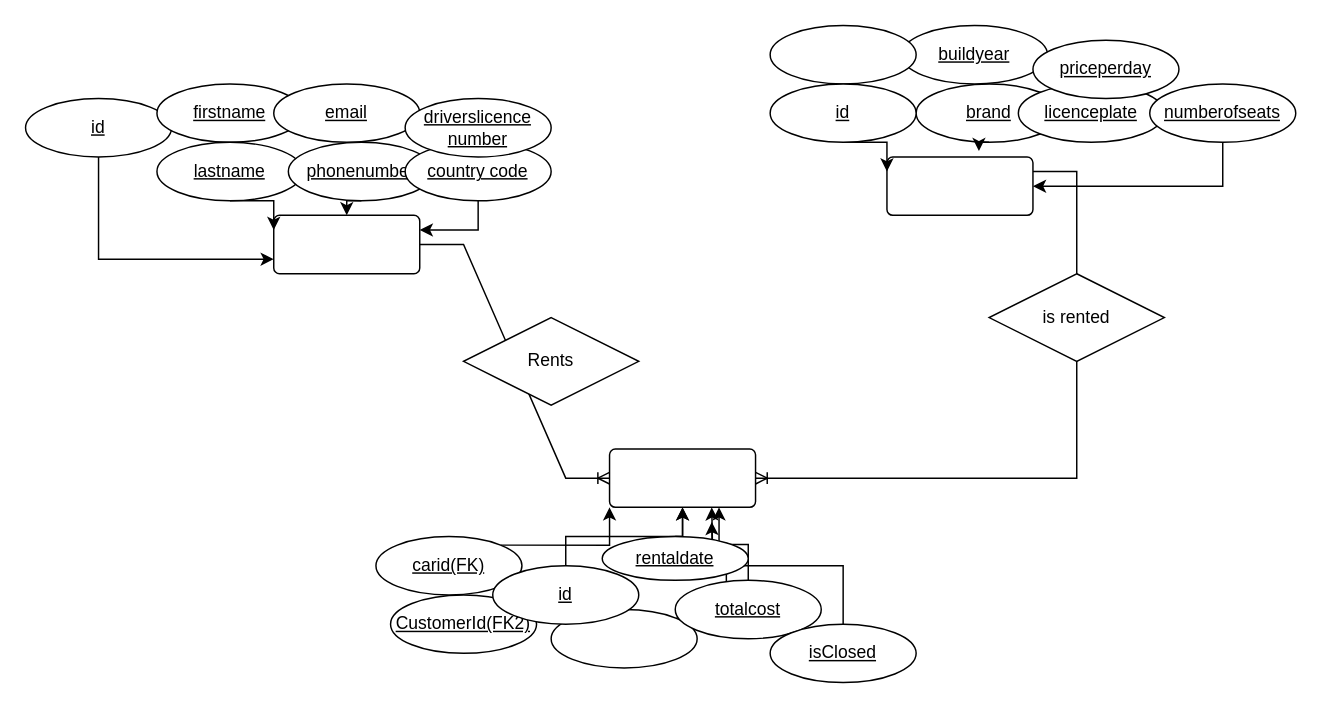
Some shapes in this 1321 by 708 pixel diagram are drawn without their labels. The centre of each missing label's shape, as x and y in pixels:
Car: (959,185)
Customer: (346,244)
model: (842,54)
RentalEvent: (682,477)
returndate: (623,638)
